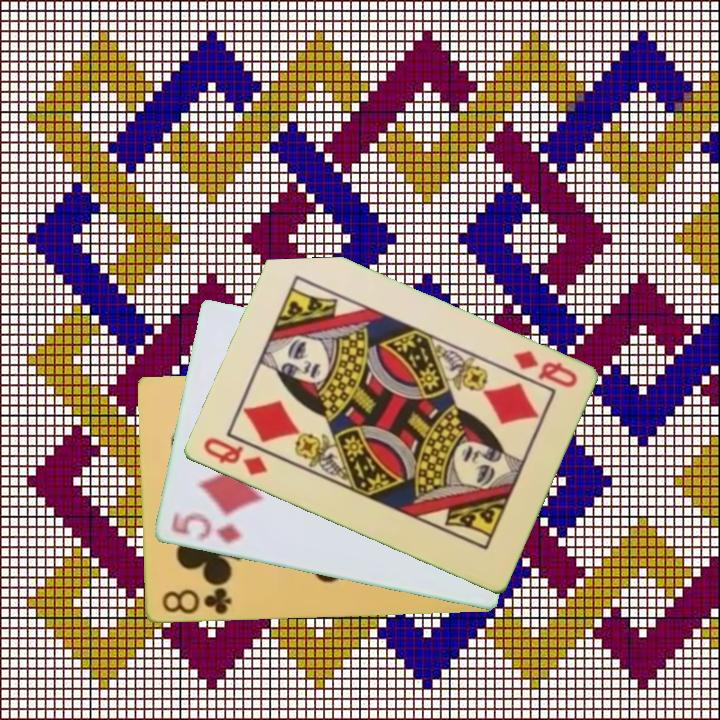5d: (167, 508, 245, 548)
8c: (158, 585, 234, 618)
Qd: (199, 434, 270, 479), (509, 347, 580, 391)
